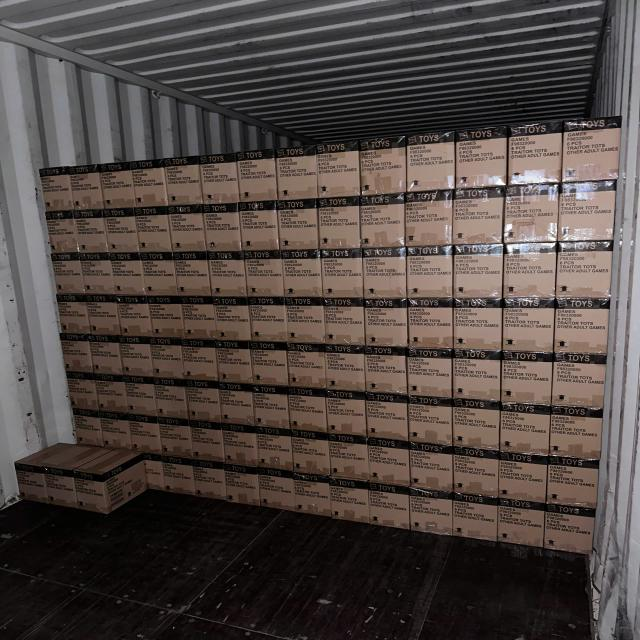Carton: (560, 185, 617, 245), (506, 188, 562, 246), (563, 129, 621, 184), (504, 247, 558, 303), (508, 135, 563, 188), (559, 250, 614, 302), (555, 310, 611, 360), (553, 358, 607, 409), (452, 193, 503, 246), (453, 250, 503, 302), (458, 140, 510, 190), (406, 143, 456, 194), (503, 306, 556, 354), (544, 507, 596, 554), (550, 412, 602, 459), (361, 146, 408, 197), (502, 361, 554, 407), (453, 304, 502, 352), (500, 455, 550, 502), (547, 463, 598, 509), (407, 253, 454, 302), (502, 410, 552, 456), (406, 199, 453, 247), (452, 357, 501, 403), (498, 503, 547, 549), (406, 350, 453, 397), (364, 251, 408, 301), (407, 304, 454, 350), (317, 150, 360, 200), (452, 498, 498, 544), (362, 203, 407, 250), (322, 254, 366, 302), (407, 401, 453, 446), (409, 446, 454, 492), (452, 406, 499, 450), (320, 203, 363, 251), (277, 202, 319, 251), (130, 157, 170, 208), (163, 155, 202, 206), (409, 494, 454, 538), (453, 453, 499, 496), (366, 302, 409, 348), (366, 484, 408, 530), (276, 152, 316, 200), (365, 440, 408, 484), (246, 388, 290, 431), (366, 348, 408, 393), (280, 254, 322, 299), (219, 385, 261, 430), (212, 295, 254, 340), (239, 205, 280, 251), (326, 300, 367, 346), (325, 346, 366, 392), (293, 470, 332, 518), (367, 398, 409, 442), (330, 479, 371, 524), (200, 159, 240, 205), (206, 254, 247, 298), (238, 158, 278, 203), (330, 436, 370, 481), (140, 251, 180, 296), (204, 208, 243, 254), (248, 296, 287, 342), (258, 465, 296, 512), (100, 160, 137, 208), (285, 301, 326, 344), (328, 393, 368, 437), (246, 255, 286, 299), (117, 335, 156, 380), (291, 431, 329, 477), (134, 208, 172, 254), (42, 464, 80, 510), (68, 164, 105, 211), (286, 345, 326, 388), (146, 295, 186, 338), (38, 166, 76, 211), (110, 252, 148, 296), (160, 453, 198, 497), (257, 427, 294, 472), (73, 209, 110, 254), (181, 295, 218, 340), (217, 340, 254, 385), (224, 462, 261, 507), (73, 469, 108, 516), (84, 293, 122, 336), (116, 294, 154, 337), (149, 338, 187, 381), (172, 255, 210, 297), (252, 344, 290, 386), (169, 210, 206, 253), (223, 426, 260, 469), (102, 208, 138, 252), (192, 458, 228, 502), (14, 460, 50, 504), (50, 252, 87, 294), (288, 393, 326, 433), (54, 293, 90, 335), (44, 210, 79, 253), (128, 412, 162, 456), (87, 335, 124, 375), (81, 252, 116, 294), (123, 374, 158, 416), (64, 370, 100, 410), (59, 332, 94, 373), (94, 372, 128, 414), (99, 409, 133, 451), (188, 384, 222, 425), (190, 424, 226, 462), (72, 407, 105, 448), (159, 423, 194, 461), (155, 380, 188, 420), (186, 344, 220, 381)
